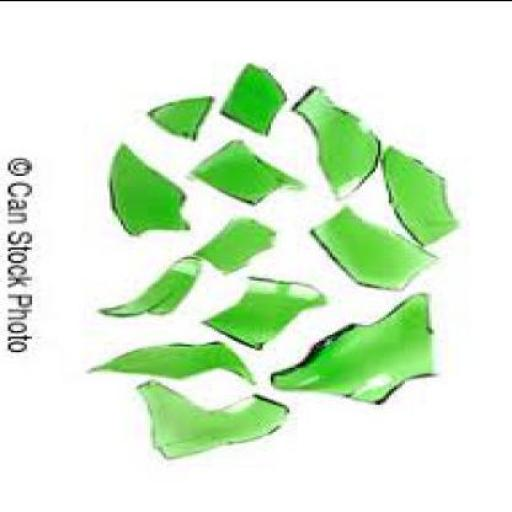glass: (274, 291, 440, 402), (136, 376, 292, 458), (316, 203, 440, 289), (295, 83, 383, 196), (207, 273, 330, 347), (112, 137, 193, 231), (91, 340, 257, 384), (388, 142, 461, 242), (198, 135, 305, 202), (102, 252, 201, 314), (223, 60, 289, 132), (198, 215, 280, 272), (150, 93, 214, 133)
